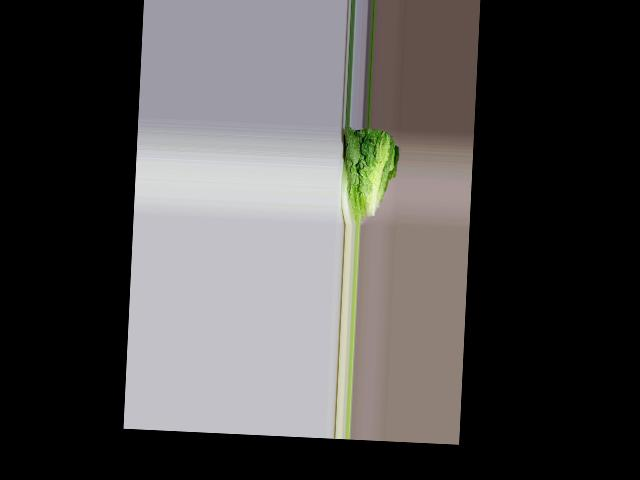lettuce: (337, 126, 393, 222)
